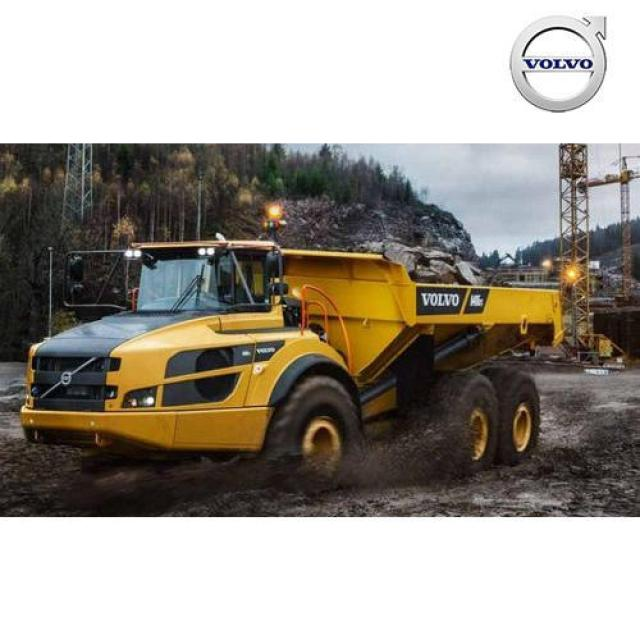dump_truck: (19, 218, 589, 476)
